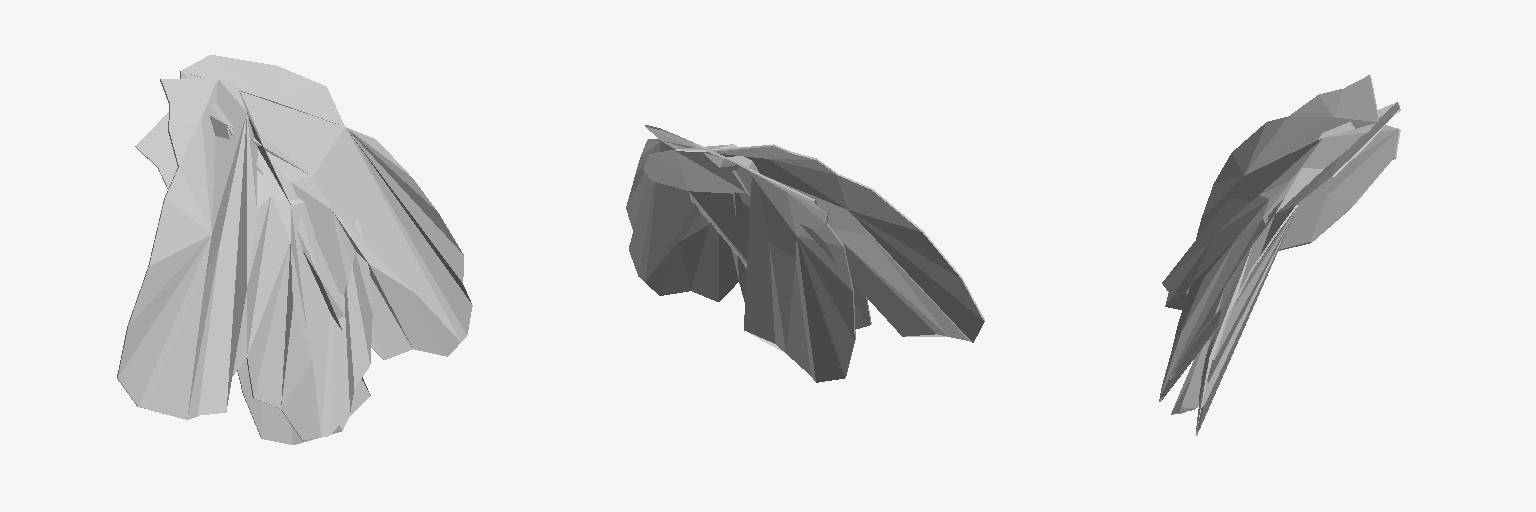
File: plant.obj
The picture shows the model from 3 angles: view 1: azimuth 30°, elevation 25°; view 2: azimuth 150°, elevation 25°; view 3: azimuth 270°, elevation 25°; orthographic projection.
Parts seen in each view (by area): view 1: Form5_default; view 2: Form5_default; view 3: Form5_default.
Part boxes in pixels (bbox=[...]): Form5_default: bbox=[117, 55, 472, 444]; Form5_default: bbox=[626, 125, 984, 382]; Form5_default: bbox=[1159, 75, 1400, 435].
Size of the model in its own units: 59.73 by 50.31 by 35.22.